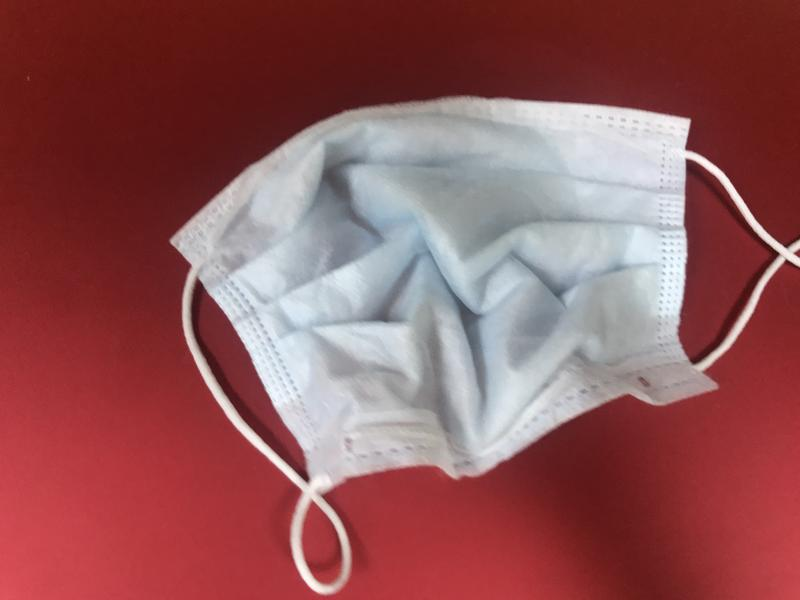medical_mask: (171, 98, 800, 590)
